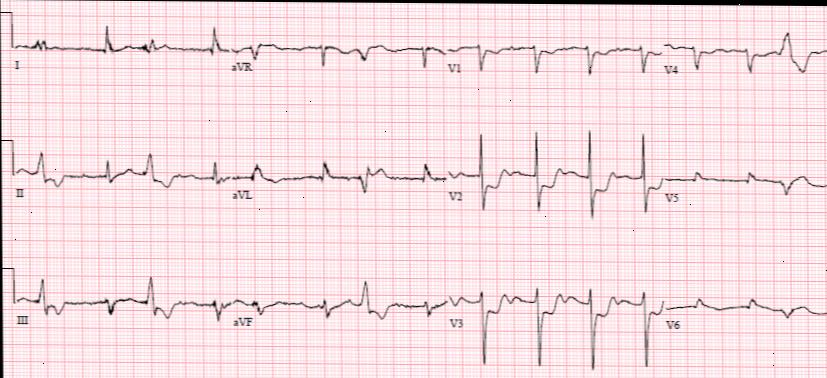Lead_I: (11, 19, 230, 80)
Lead_II: (12, 142, 231, 205)
Lead_III: (12, 267, 230, 340)
Lead_V1: (444, 26, 662, 84)
Lead_V2: (445, 120, 663, 219)
Lead_V3: (446, 275, 664, 370)
Lead_V4: (661, 23, 827, 86)
Lead_V5: (662, 157, 827, 219)
Lead_V6: (663, 289, 827, 337)
Lead_aVF: (231, 283, 447, 340)
Lead_aVL: (230, 145, 446, 208)
Lead_aVR: (231, 21, 445, 84)
